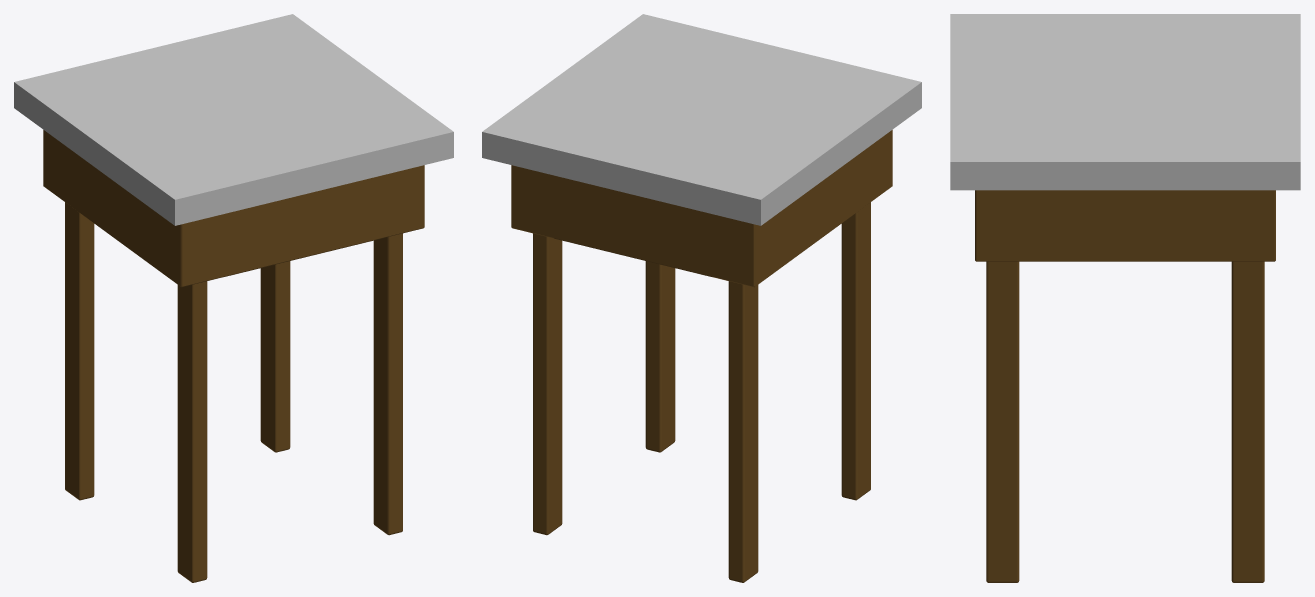
The model's file is Heagney_NightStand_02.fbx.
3 views of the same model, side by side, from view 1: azimuth 30°, elevation 25°; view 2: azimuth 150°, elevation 25°; view 3: azimuth 270°, elevation 25° (orthographic). The views are drawn at different scales.
Visible parts, largest first — view 1: Cube, Cube.001, Cube.003, Cube.002; view 2: Cube, Cube.001, Cube.003, Cube.002; view 3: Cube, Cube.001, Cube.003.
Boxes of the visible parts, box(x1,y1,x2,y2) form: Cube: box(14, 14, 453, 225); Cube.001: box(65, 202, 402, 582); Cube.003: box(43, 130, 424, 287); Cube.002: box(224, 175, 381, 276); Cube: box(482, 14, 921, 225); Cube.001: box(533, 202, 870, 582); Cube.003: box(511, 130, 892, 287); Cube.002: box(554, 175, 711, 276); Cube: box(950, 14, 1300, 190); Cube.001: box(986, 261, 1264, 582); Cube.003: box(975, 190, 1275, 261).
Size of the model in its own units: 58.58 by 81.19 by 58.58.
